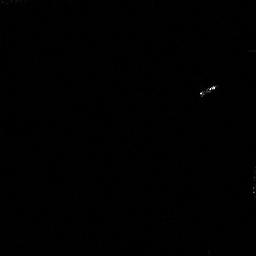ship: (197, 84, 219, 95)
